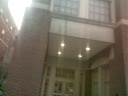window: (117, 57, 128, 78), (104, 64, 113, 85)
